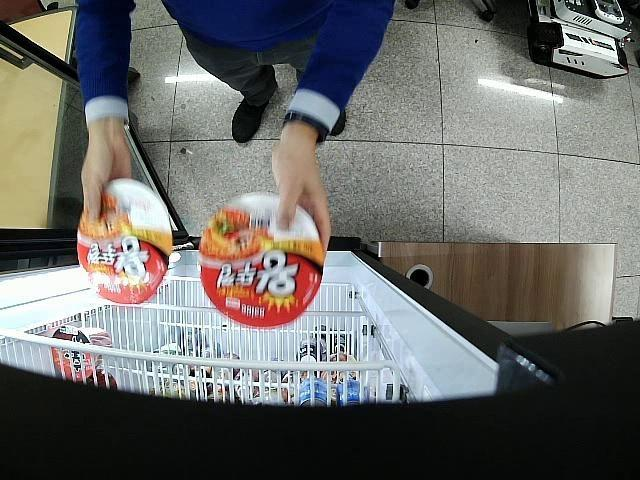10_wangTtukkeong: (198, 192, 324, 330), (78, 178, 172, 304)
